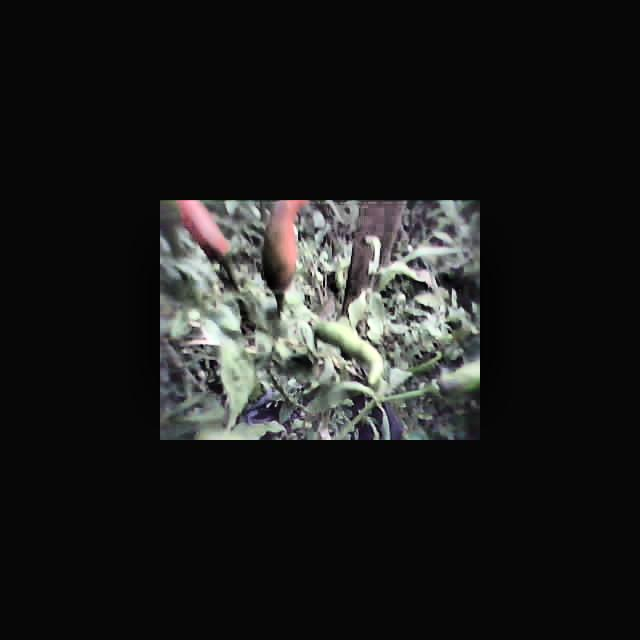Cabai: (263, 200, 302, 293), (180, 200, 233, 267)
